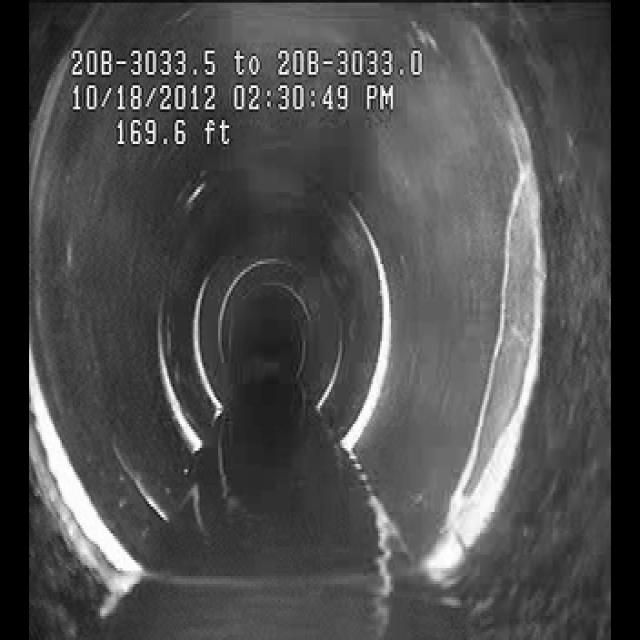Crack: (448, 146, 552, 485)
